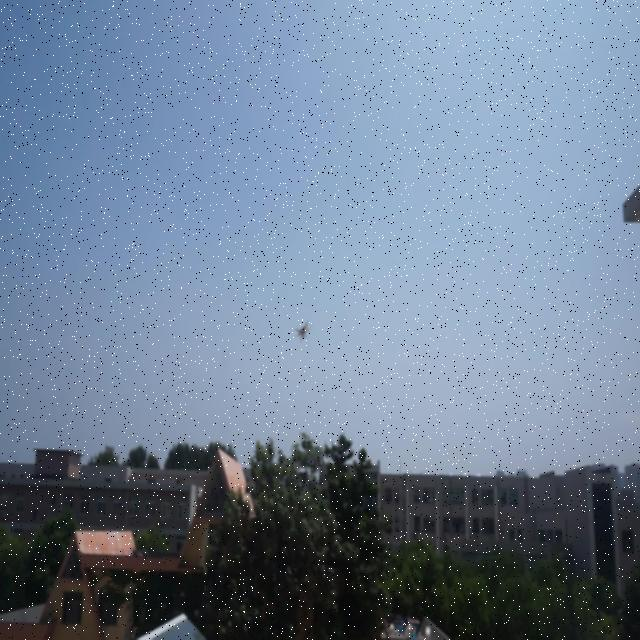UAV: (294, 320, 314, 343)
